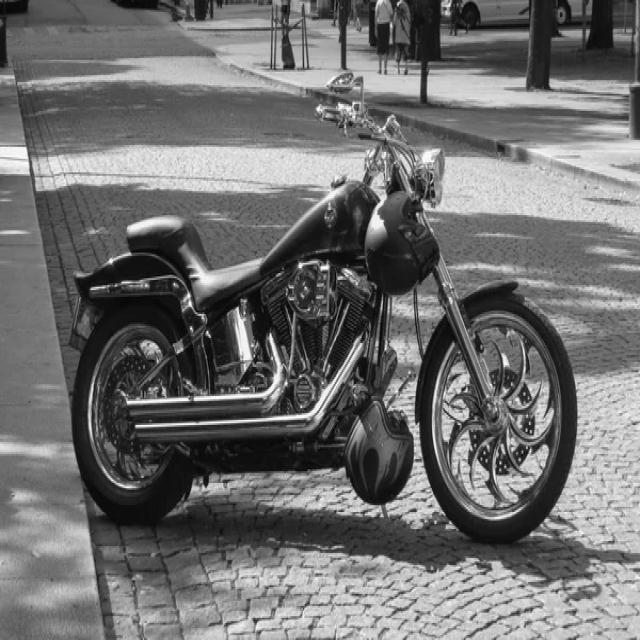Motorcycle: (69, 90, 578, 543)
